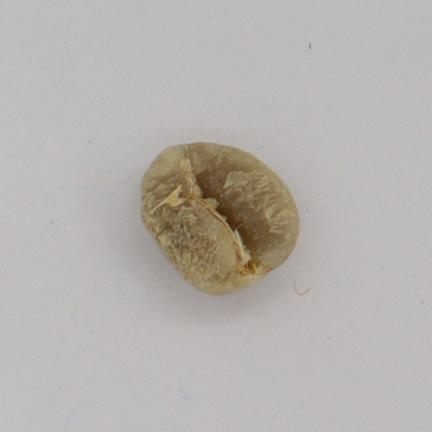immature: (141, 143, 299, 294)
